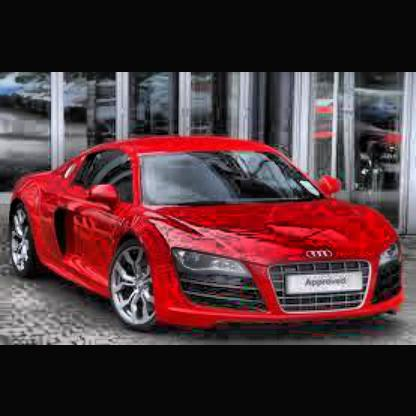Audi R8 Coupe 2012: (10, 138, 406, 334)
